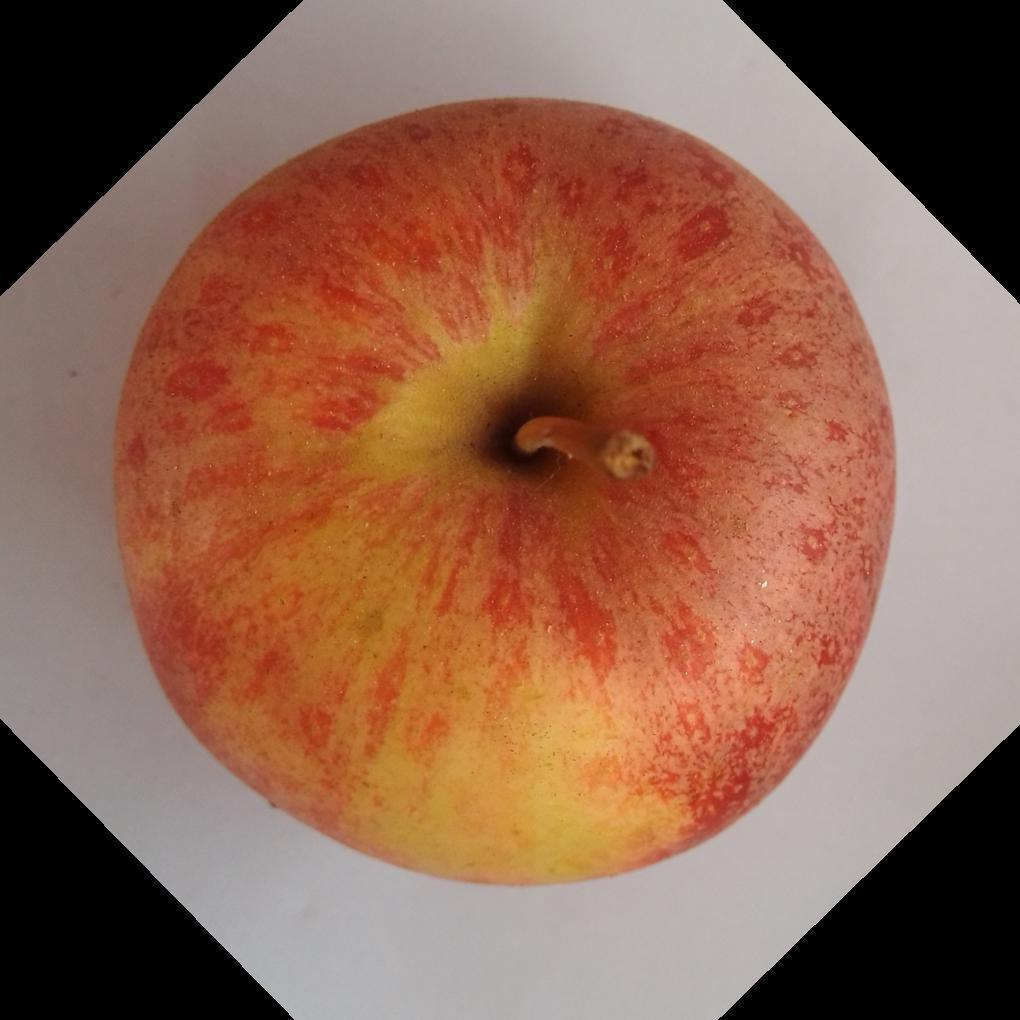FreshGuava: (110, 98, 900, 892)
